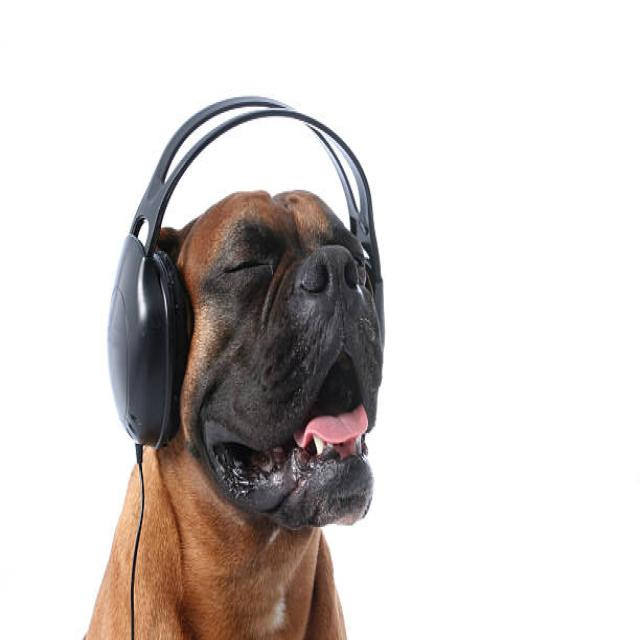Headphone: (106, 92, 386, 454)
